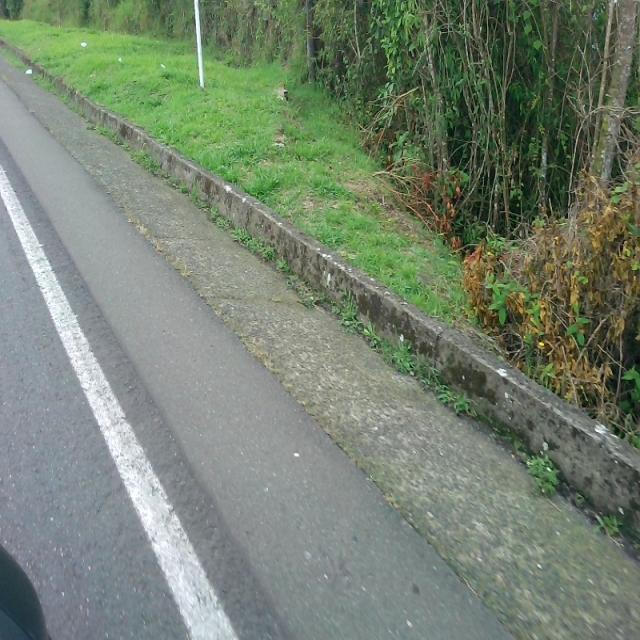DITCH: (2, 34, 638, 638), (1, 36, 638, 638), (4, 99, 638, 638)
